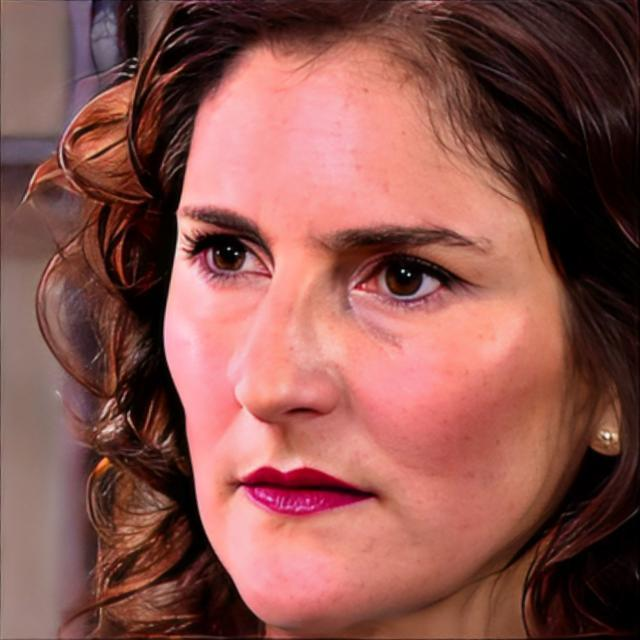neutral: (161, 25, 591, 628)
